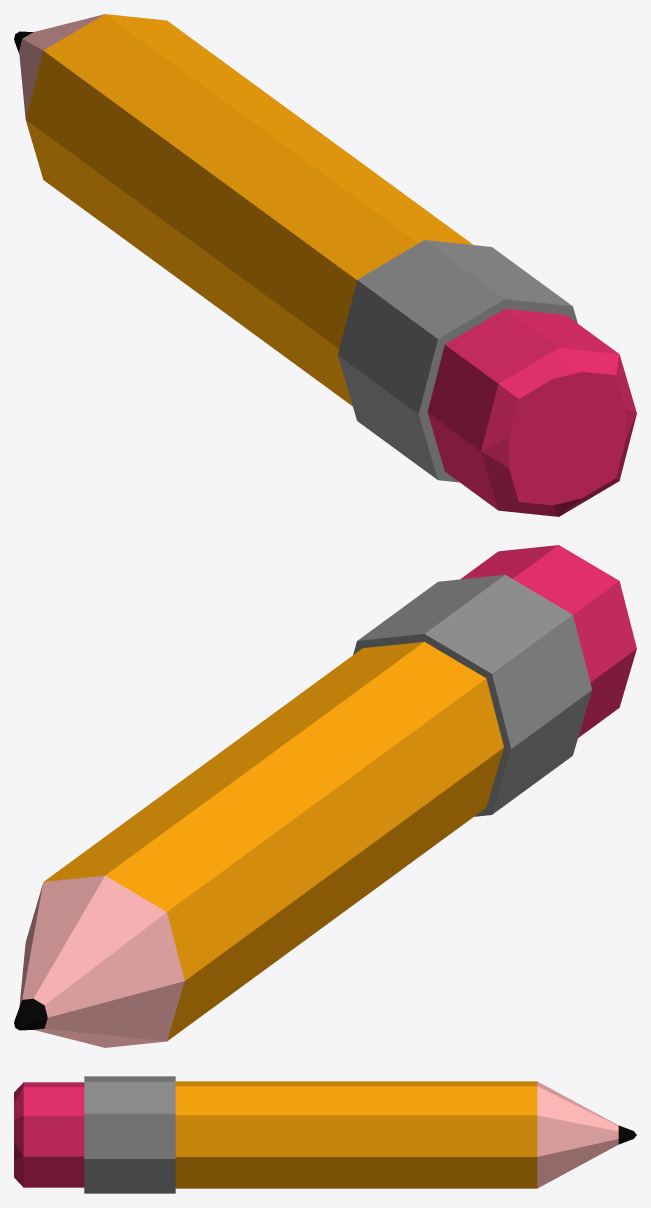
The model's file is PencilProjectile.fbx.
3 renders of one model, top to bottom at view 1: azimuth 30°, elevation 25°; view 2: azimuth 150°, elevation 25°; view 3: azimuth 270°, elevation 25°, orthographic. The views are drawn at different scales.
Visible parts, largest first — view 1: Cube; view 2: Cube; view 3: Cube.
Boxes of the visible parts, box(x1,y1,x2,y2) form: Cube: box(14, 14, 636, 516); Cube: box(14, 545, 636, 1047); Cube: box(14, 1076, 636, 1193).
Size of the model in its own units: 53.69 by 55.59 by 295.
